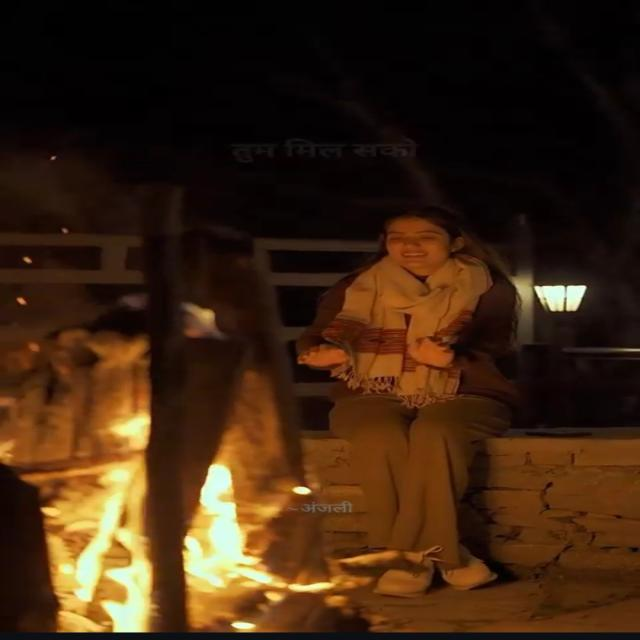fire: (73, 412, 149, 634), (182, 464, 269, 590)
